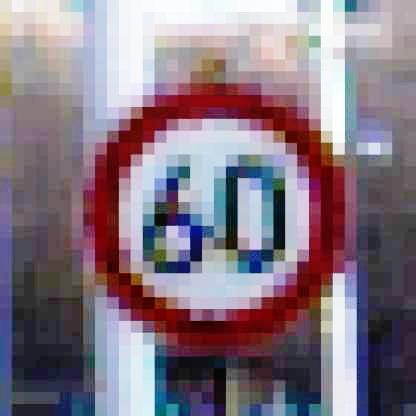Speed Limit -60-: (75, 81, 355, 350)
